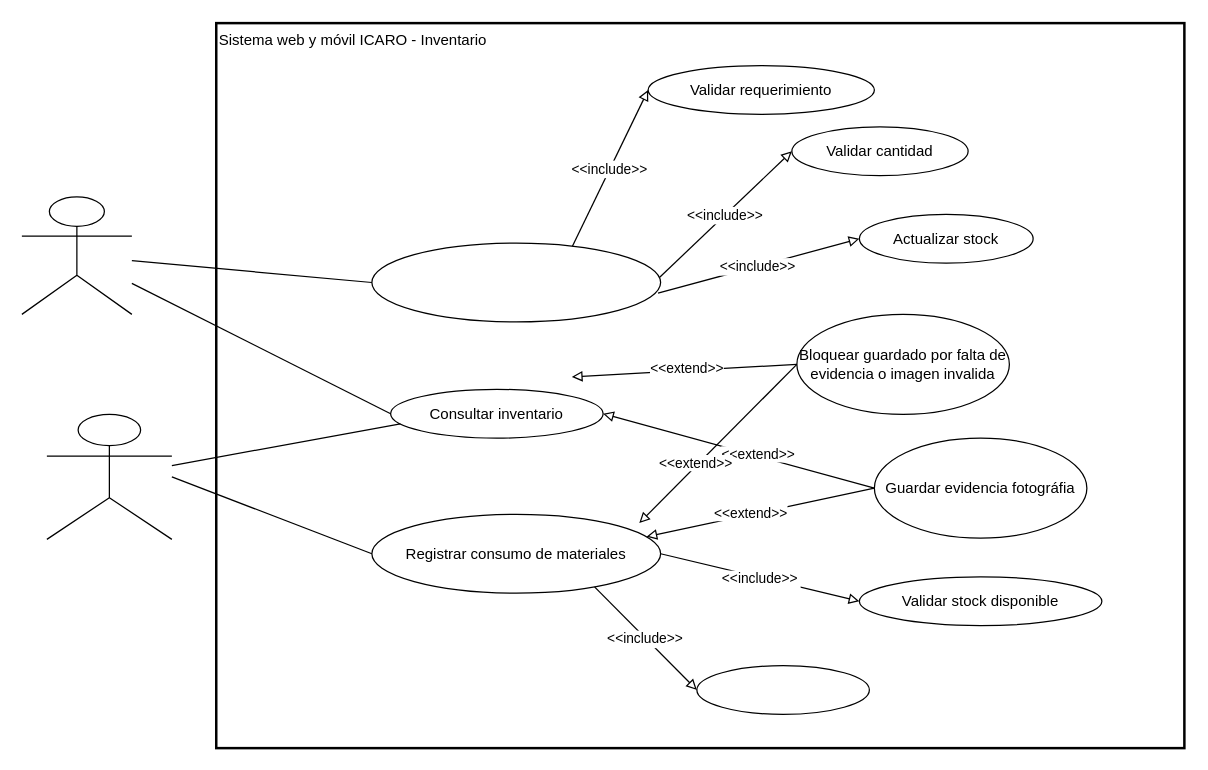
This 1208x770 diagram has some shape labels left out. The shapes that lost their labels are listed below. From the top down, each one's box as (x1, y1, x2, y2) in pixels, then its label:
(21, 196, 132, 314): Bodeguero
(371, 242, 661, 322): Registrar recepción de materiales
(46, 413, 172, 539): Personal Técnico
(696, 664, 869, 714): Descontar stock
